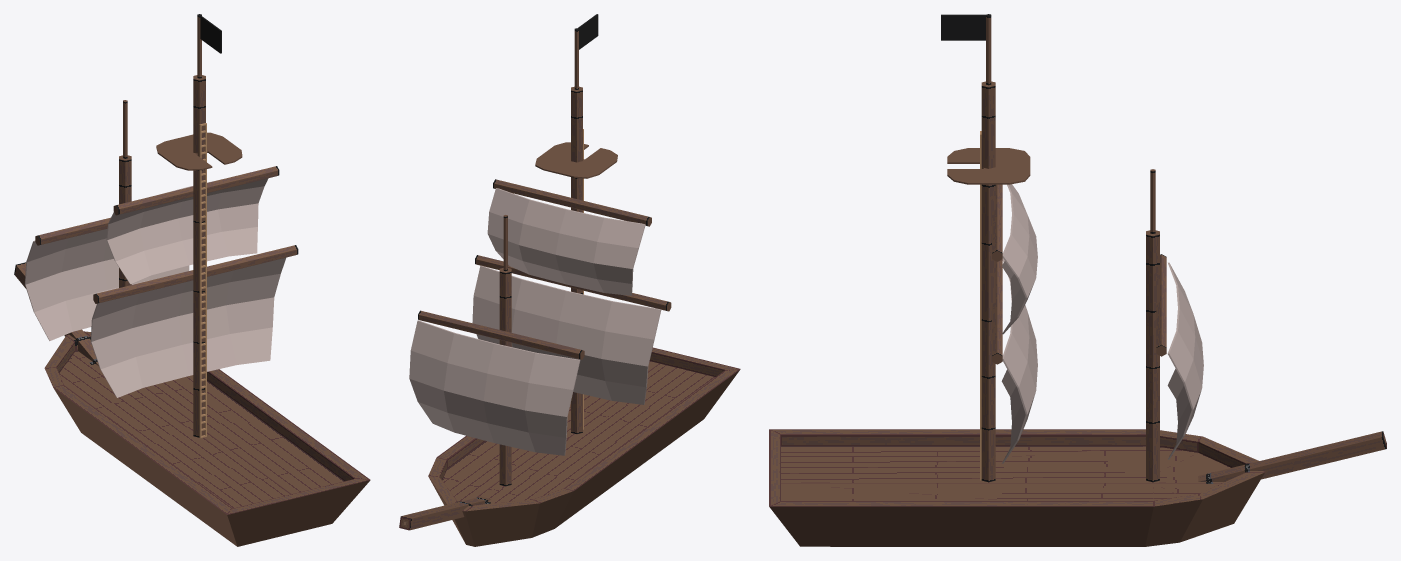
File: PirateShip.gltf
The picture shows the model from 3 angles, left to right: view 1: azimuth 30°, elevation 25°; view 2: azimuth 150°, elevation 25°; view 3: azimuth 270°, elevation 25°; orthographic projection. The views are drawn at different scales.
Visible parts, largest first — view 1: cuboid; view 2: cuboid; view 3: cuboid.
Boxes of the visible parts, <box> form: cuboid: <box>14,14,370,546</box>; cuboid: <box>399,14,740,546</box>; cuboid: <box>769,14,1386,546</box>.
Bounding box in the file's own units: 9.25 × 20.19 × 22.33.
1 material, 1 textured.
